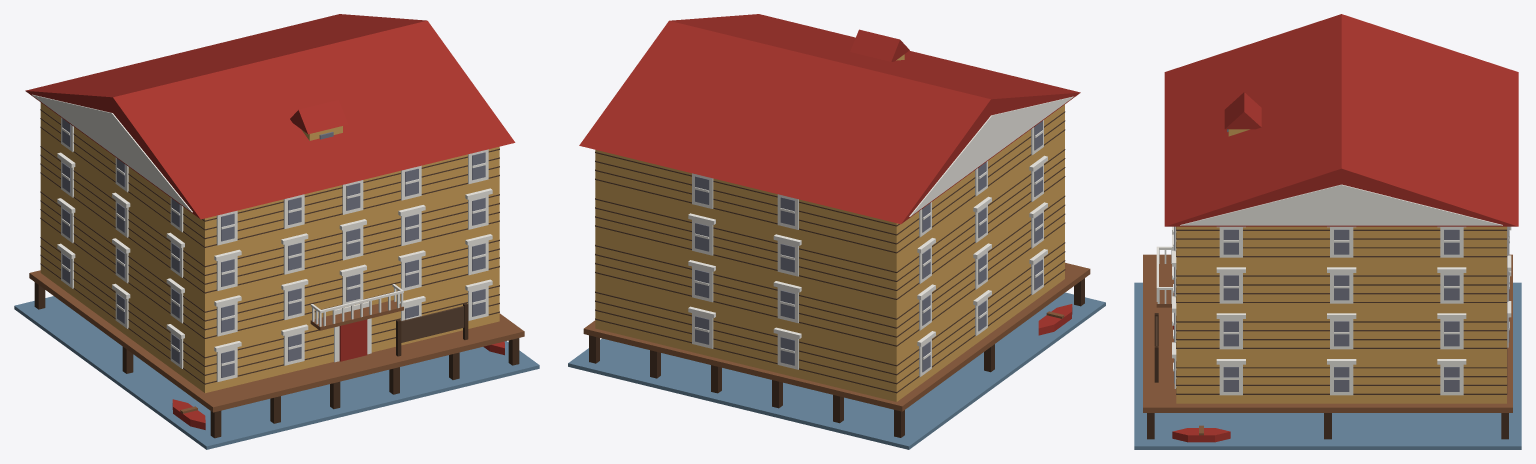
The model's file is house-2x2-4f-palafito-a.glb.
3 views of the same model, side by side, from view 1: azimuth 30°, elevation 25°; view 2: azimuth 150°, elevation 25°; view 3: azimuth 270°, elevation 25° (orthographic). The views are drawn at different scales.
Visible parts, largest first — view 1: house-2x2-4f-palafito-a; view 2: house-2x2-4f-palafito-a; view 3: house-2x2-4f-palafito-a.
Boxes of the visible parts, x1,y1,x2,y2 form: house-2x2-4f-palafito-a: (14,14,539,449); house-2x2-4f-palafito-a: (568,14,1105,449); house-2x2-4f-palafito-a: (1134,14,1521,449).
Size of the model in its own units: 1.99 by 1.57 by 1.99.
Materials: 1 (1 with a texture image).
